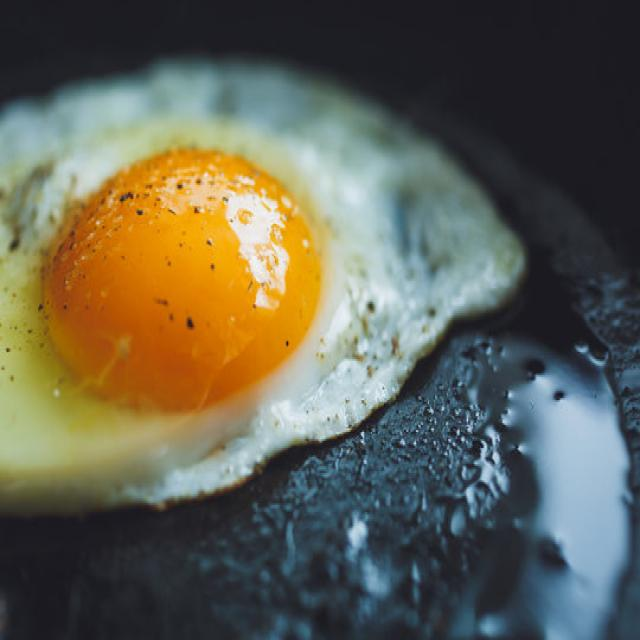Egg: (0, 62, 525, 513)
